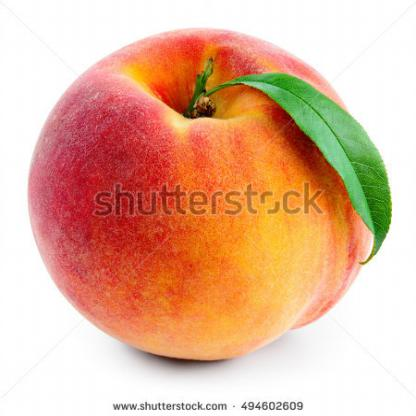peach leaf: (218, 62, 395, 265)
